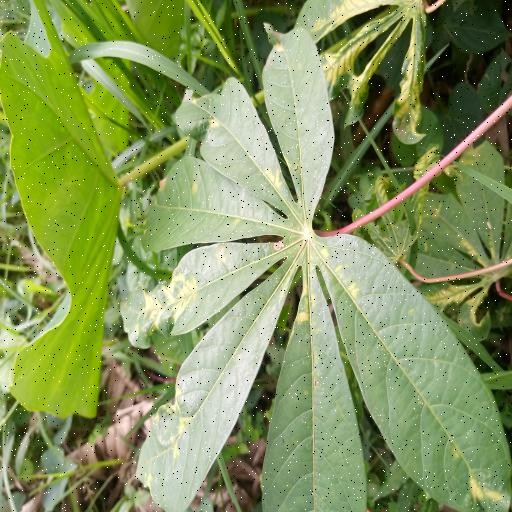Cassava_Mosaic: (112, 21, 512, 512)
